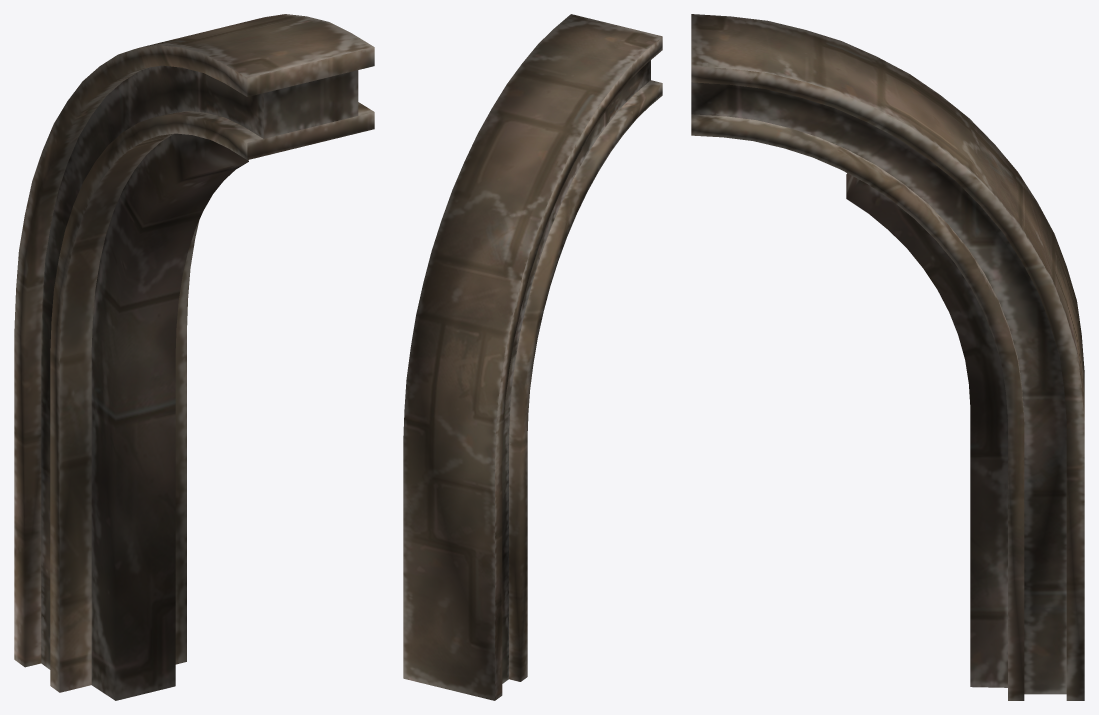
The model's file is arco 3.fbx.
3 renders of one model, left to right at view 1: azimuth 30°, elevation 25°; view 2: azimuth 150°, elevation 25°; view 3: azimuth 270°, elevation 25°, orthographic. The views are drawn at different scales.
Visible parts, largest first — view 1: arco 3; view 2: arco 3; view 3: arco 3.
Part boxes in pixels (left/top/right/bottom): arco 3: left=14, top=14, right=374, bottom=700; arco 3: left=403, top=14, right=662, bottom=700; arco 3: left=691, top=14, right=1084, bottom=700.
Bounding box in the file's own units: 30.4 × 172 × 96.44.
1 material, 1 textured.
